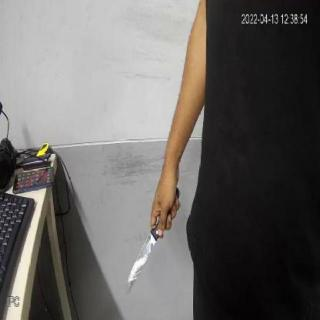knife: (120, 228, 167, 288)
